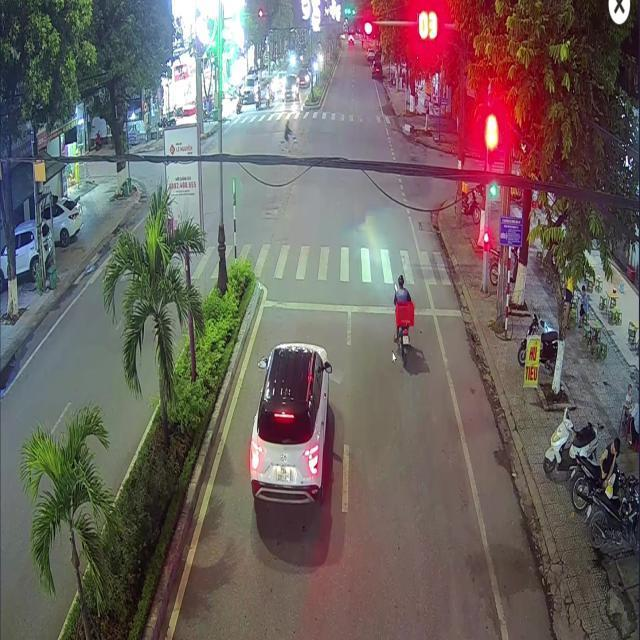car: (248, 345, 331, 507)
motobike: (392, 275, 413, 363)
red_light: (484, 110, 499, 175), (345, 13, 372, 38)
stop_line: (262, 299, 460, 316)
